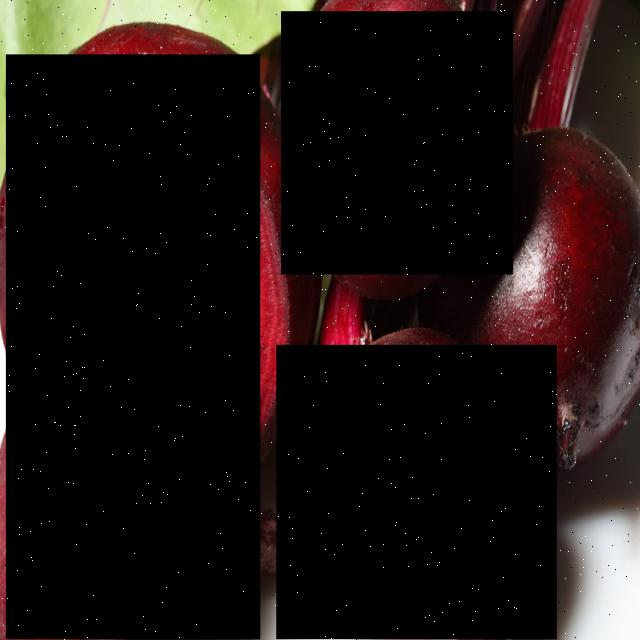Beetroot: (6, 55, 261, 640), (277, 345, 557, 640), (282, 12, 514, 274)
